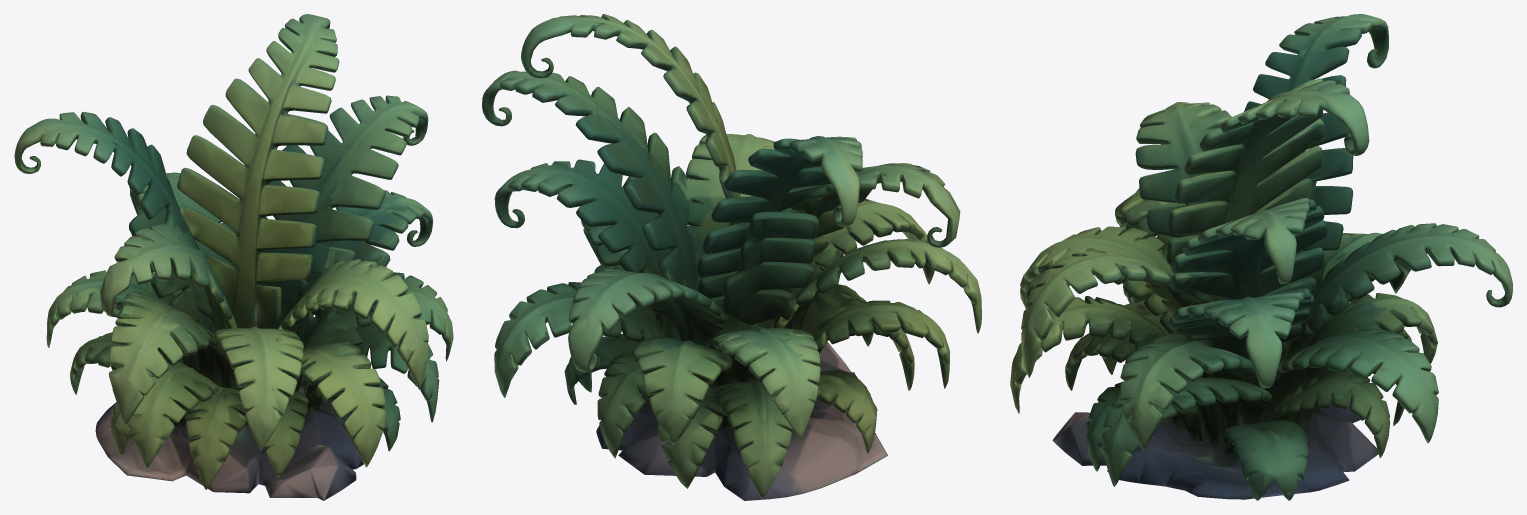
File: fren4.glb
The picture shows the model from 3 angles, left to right: view 1: azimuth 30°, elevation 25°; view 2: azimuth 150°, elevation 25°; view 3: azimuth 270°, elevation 25°; orthographic projection. The views are drawn at different scales.
Visible parts, largest first — view 1: node_0; view 2: node_0; view 3: node_0.
Boxes of the visible parts, x1,y1,x2,y2 form: node_0: [14, 14, 453, 500]; node_0: [482, 14, 981, 500]; node_0: [1010, 14, 1512, 500].
Bounding box in the file's own units: 0.9474 × 0.8771 × 0.9804.
1 material, 1 textured.
